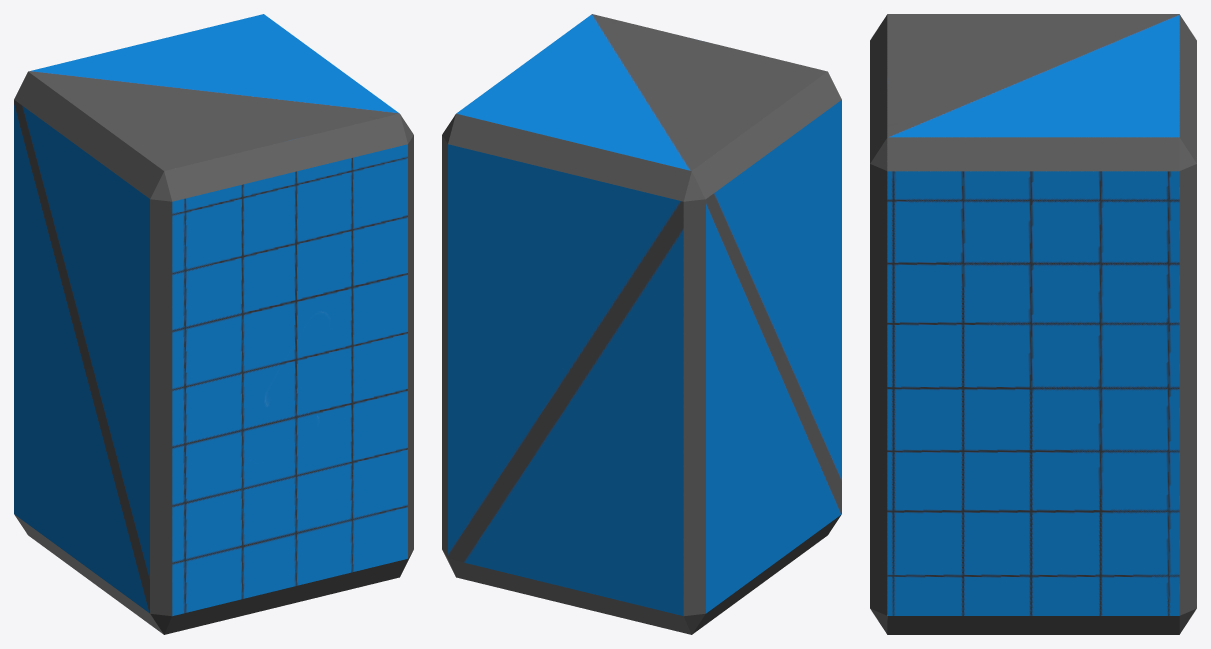
3 renders of one model, left to right at view 1: azimuth 30°, elevation 25°; view 2: azimuth 150°, elevation 25°; view 3: azimuth 270°, elevation 25°, orthographic. The views are drawn at different scales.
Parts seen in each view (by area): view 1: Box3-lp; view 2: Box3-lp; view 3: Box3-lp.
Boxes of the visible parts, x1,y1,x2,y2 form: Box3-lp: (14, 14, 413, 634); Box3-lp: (442, 14, 841, 634); Box3-lp: (870, 14, 1196, 634).
Size of the model in its own units: 200 by 336 by 200.
2 materials, 2 textured.
